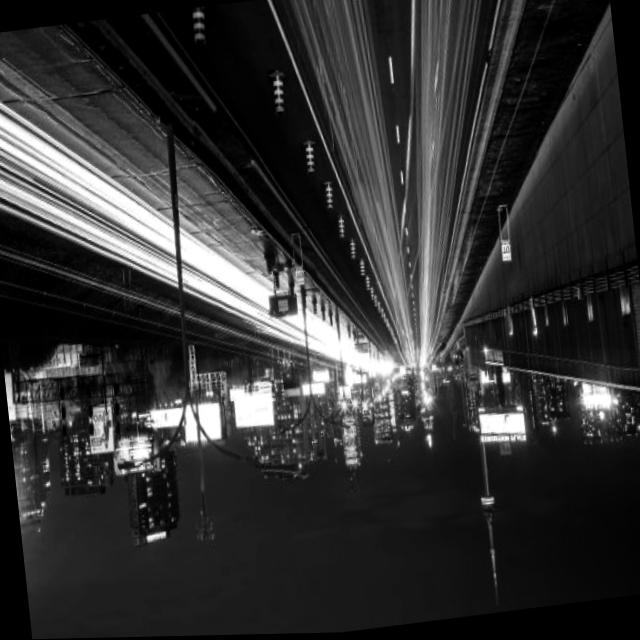cleat: (184, 0, 621, 451)
